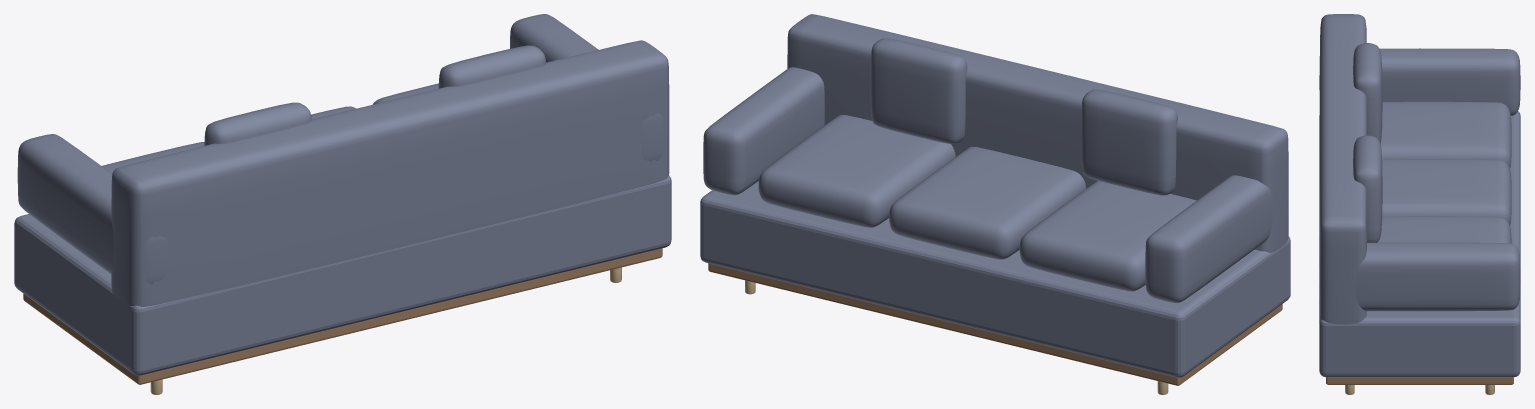
The model's file is sofa.gltf.
3 renders of one model, left to right at view 1: azimuth 30°, elevation 25°; view 2: azimuth 150°, elevation 25°; view 3: azimuth 270°, elevation 25°, orthographic. The views are drawn at different scales.
Parts seen in each view (by area): view 1: respaldo, base, brazo-1, faldon, brazo1, almohada1, almohada0, cojin0; view 2: base, respaldo, cojin1, cojin2, cojin0, brazo-1, brazo1, almohada0, almohada1, faldon; view 3: base, respaldo, brazo1, brazo-1, cojin0, cojin1, cojin2, almohada1, almohada0, faldon.
Part boxes in pixels (<box>): respaldo: <box>111,40,669,306</box>; base: <box>14,175,671,375</box>; brazo-1: <box>17,134,168,284</box>; faldon: <box>23,248,662,384</box>; brazo1: <box>510,14,663,161</box>; almohada1: <box>438,45,545,88</box>; almohada0: <box>204,102,311,145</box>; cojin0: <box>102,142,204,173</box>; base: <box>700,181,1290,377</box>; respaldo: <box>787,14,1288,252</box>; cojin1: <box>889,146,1086,259</box>; cojin2: <box>758,115,955,227</box>; cojin0: <box>1019,180,1196,291</box>; brazo-1: <box>1145,175,1273,302</box>; brazo1: <box>703,67,824,195</box>; almohada0: <box>1081,89,1177,195</box>; almohada1: <box>870,38,967,144</box>; faldon: <box>708,263,1282,385</box>; base: <box>1319,111,1520,377</box>; respaldo: <box>1319,14,1367,324</box>; brazo1: <box>1319,242,1520,311</box>; brazo-1: <box>1319,48,1520,115</box>; cojin0: <box>1380,101,1511,168</box>; cojin1: <box>1382,159,1511,225</box>; cojin2: <box>1377,216,1511,243</box>; almohada1: <box>1353,135,1382,242</box>; almohada0: <box>1353,43,1382,143</box>; faldon: <box>1326,377,1513,384</box>.
Bounding box in the file's own units: 2.3 × 0.9993 × 0.92.
